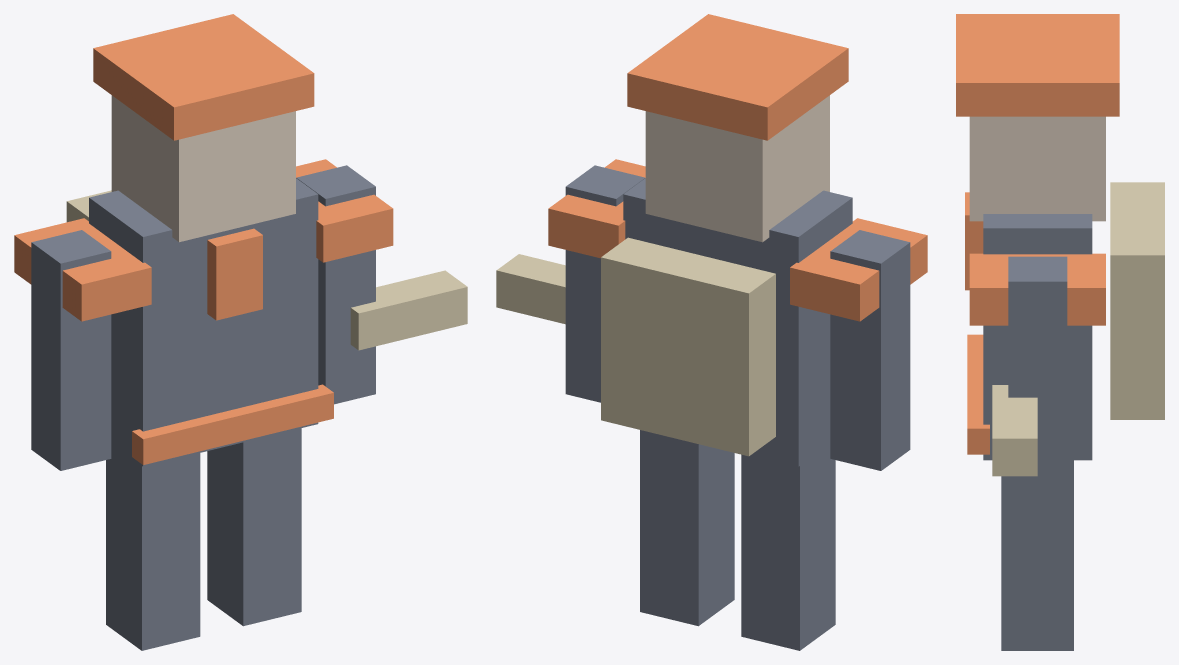
The model's file is 16_quill_voidrill_responder_of_maintenance.glb.
The picture shows the model from 3 angles, left to right: view 1: azimuth 30°, elevation 25°; view 2: azimuth 150°, elevation 25°; view 3: azimuth 270°, elevation 25°; orthographic projection.
Parts seen in each view (by area): view 1: Quill Voidrill, Responder of Maintenance; view 2: Quill Voidrill, Responder of Maintenance; view 3: Quill Voidrill, Responder of Maintenance.
Boxes of the visible parts, x1=… form: Quill Voidrill, Responder of Maintenance: x1=14, y1=14, x2=467, y2=650; Quill Voidrill, Responder of Maintenance: x1=496, y1=14, x2=927, y2=650; Quill Voidrill, Responder of Maintenance: x1=956, y1=14, x2=1164, y2=650.
Bounding box in the file's own units: 1.1 × 1.47 × 0.4954.
